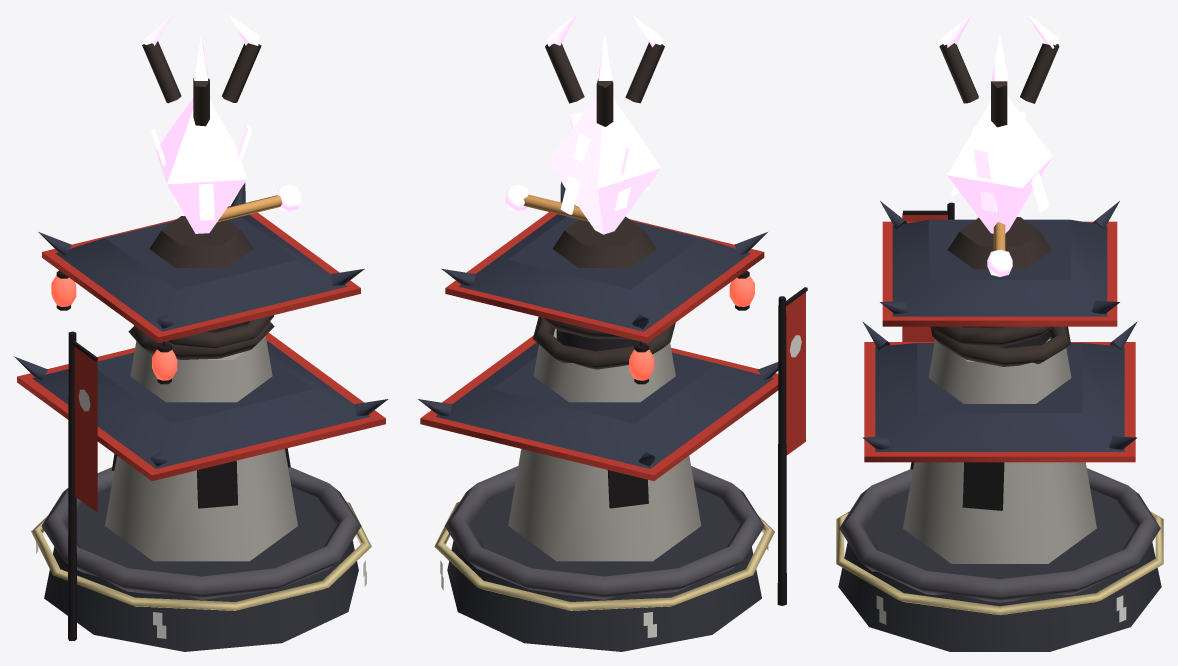
The model's file is tower_chain_thunder.glb.
3 renders of one model, left to right at view 1: azimuth 30°, elevation 25°; view 2: azimuth 150°, elevation 25°; view 3: azimuth 270°, elevation 25°, orthographic.
Visible parts, largest first — view 1: base, shaft, deco_eave_1_roof, deco_eave_0_roof, base_rim, crystal_core, deco_eave_1_rim, deco_eave_0_rim, deco_shimenawa_rope, cap, deco_nobori_cloth, deco_nobori_pole (+12 smaller); view 2: base, shaft, deco_eave_1_roof, deco_eave_0_roof, base_rim, crystal_core, deco_eave_1_rim, deco_eave_0_rim, deco_shimenawa_rope, cap, deco_nobori_cloth, deco_nobori_pole (+14 smaller); view 3: base, shaft, deco_eave_1_roof, deco_eave_0_roof, base_rim, crystal_core, deco_eave_1_rim, deco_eave_0_rim, deco_shimenawa_rope, cap, coil_0, scorch_0 (+10 smaller).
Boxes of the visible parts, box(x1,y1,x2,y2) form: base: box(44, 486, 358, 651); shaft: box(105, 336, 297, 561); deco_eave_1_roof: box(32, 340, 370, 468); deco_eave_0_roof: box(55, 214, 347, 331); base_rim: box(41, 467, 361, 599); crystal_core: box(156, 98, 246, 233); deco_eave_1_rim: box(17, 332, 385, 480); deco_eave_0_rim: box(42, 206, 360, 342); deco_shimenawa_rope: box(31, 501, 371, 610); cap: box(149, 216, 253, 267); deco_nobori_cloth: box(74, 347, 97, 512); deco_nobori_pole: box(68, 331, 76, 641); base: box(447, 486, 761, 651); shaft: box(508, 328, 701, 561); deco_eave_1_roof: box(435, 342, 773, 468); deco_eave_0_roof: box(459, 214, 750, 331); base_rim: box(445, 466, 764, 599); crystal_core: box(548, 97, 661, 234); deco_eave_1_rim: box(420, 335, 778, 480); deco_eave_0_rim: box(445, 206, 764, 342); deco_shimenawa_rope: box(434, 501, 774, 610); cap: box(552, 216, 656, 267); deco_nobori_cloth: box(786, 292, 805, 455); deco_nobori_pole: box(777, 296, 786, 605); base: box(838, 489, 1161, 651); shaft: box(903, 337, 1096, 563); deco_eave_1_roof: box(875, 343, 1124, 451); deco_eave_0_roof: box(892, 219, 1107, 316); base_rim: box(839, 468, 1160, 602); crystal_core: box(947, 96, 1052, 233); deco_eave_1_rim: box(864, 342, 1135, 462); deco_eave_0_rim: box(882, 221, 1117, 326); deco_shimenawa_rope: box(836, 511, 1163, 614); cap: box(947, 217, 1052, 269); coil_0: box(930, 326, 1070, 366); scorch_0: box(962, 462, 1004, 510).
Bounding box in the file's own units: 0.4387 × 0.773 × 0.4052.
